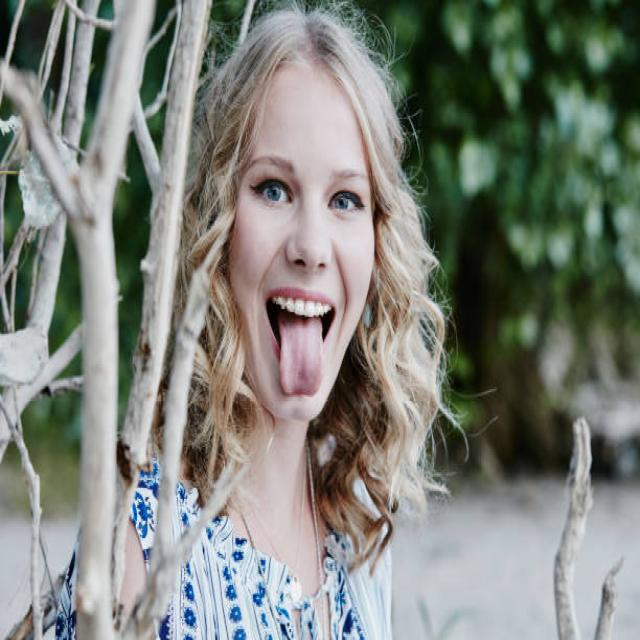tongue: (273, 314, 328, 405)
